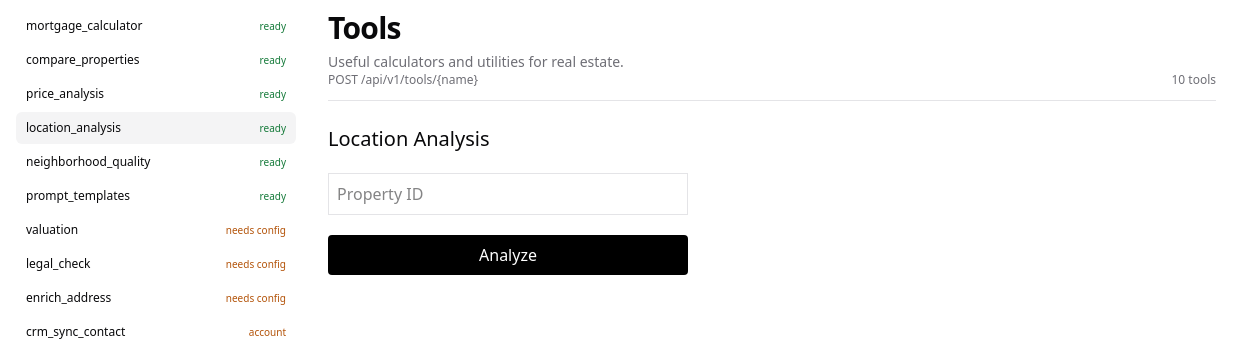
Test: ToolsPage › LocationAnalysisSection › analyzes location and shows results
Step 1. Type "prop-123" into the field with placeholder "Property ID" → (508, 194), box [328,173,688,215]
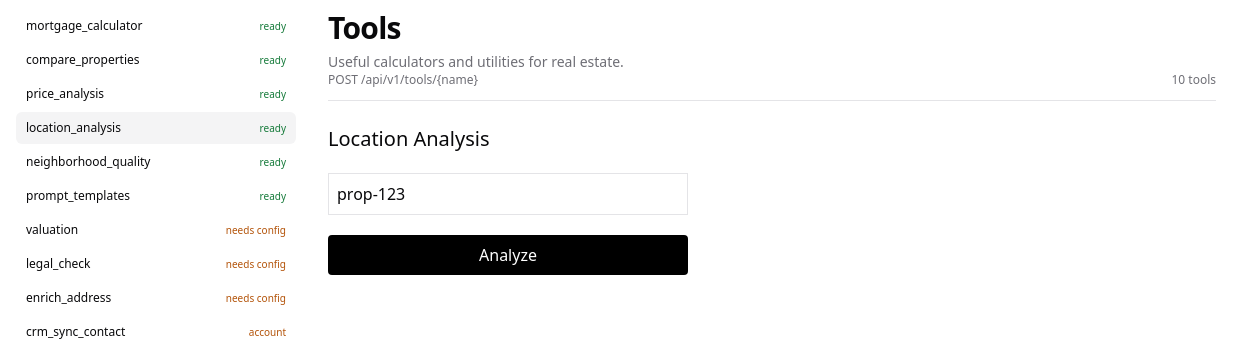
Step 2. Click the button "Analyze" → (508, 255), box [328,235,688,275]
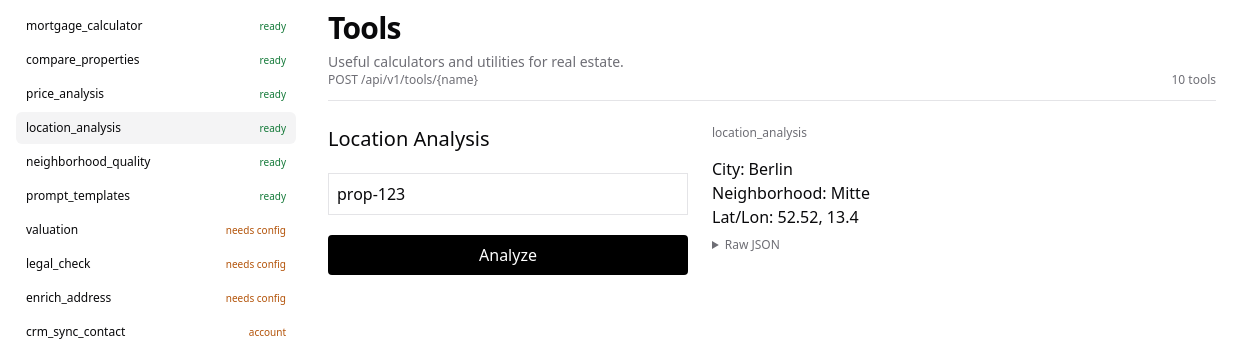
Expected: the text "Location Analysis" shows "Berlin", [712,158,793,180]
Expected: the text "Location Analysis" shows "Mitte", [712,182,870,204]
